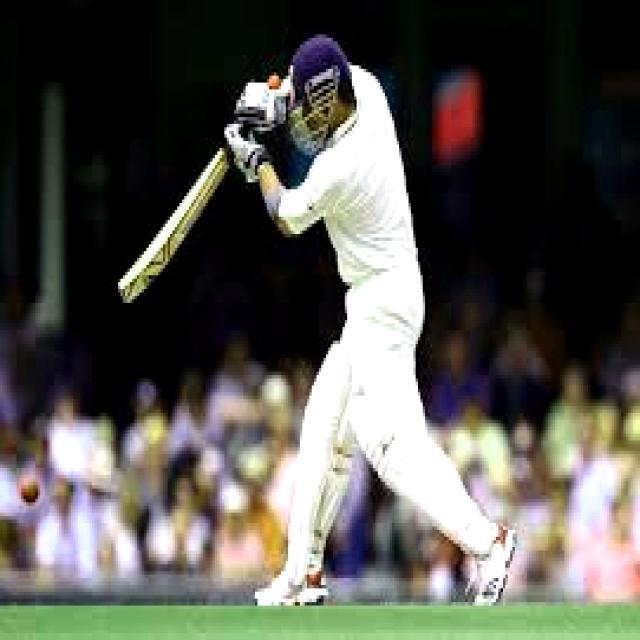bat: (110, 148, 246, 320)
toe: (118, 280, 134, 311)
